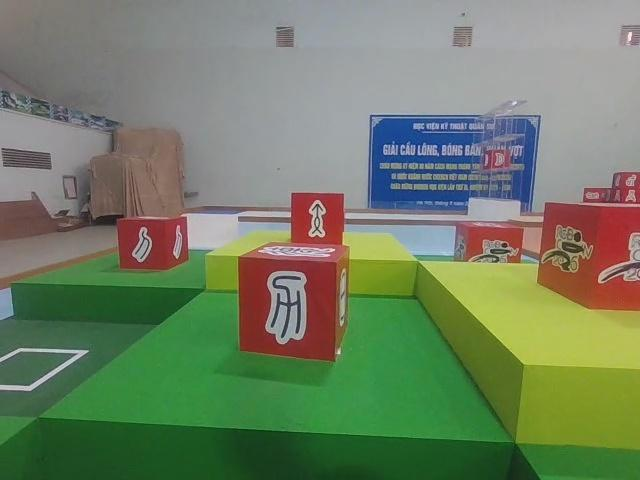R1: (535, 202, 640, 311), (455, 217, 526, 270)
R2 Fake: (238, 239, 351, 363)
R2 Real: (116, 215, 189, 270), (293, 191, 343, 246)
